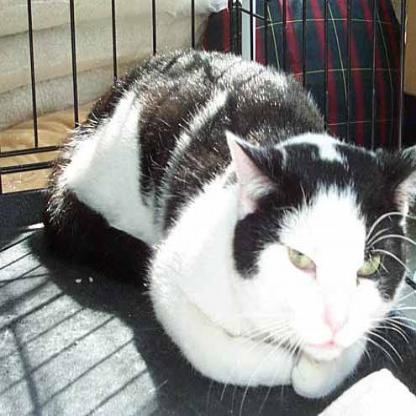cat: (96, 36, 406, 370)
